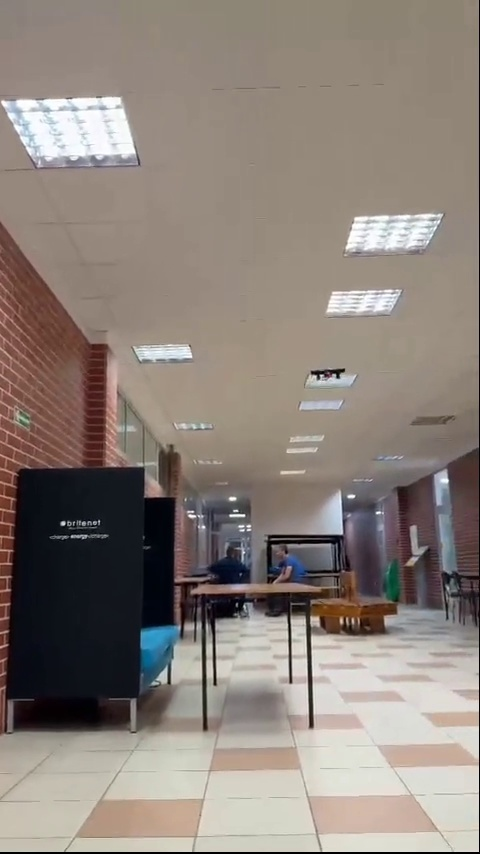drone: (311, 368, 346, 380)
no vest: (213, 542, 251, 583), (267, 542, 301, 583)
